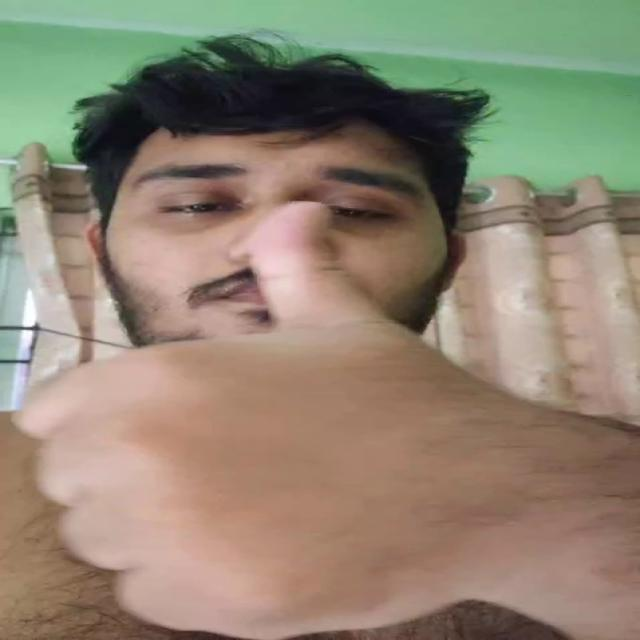Yes: (14, 198, 482, 640)
